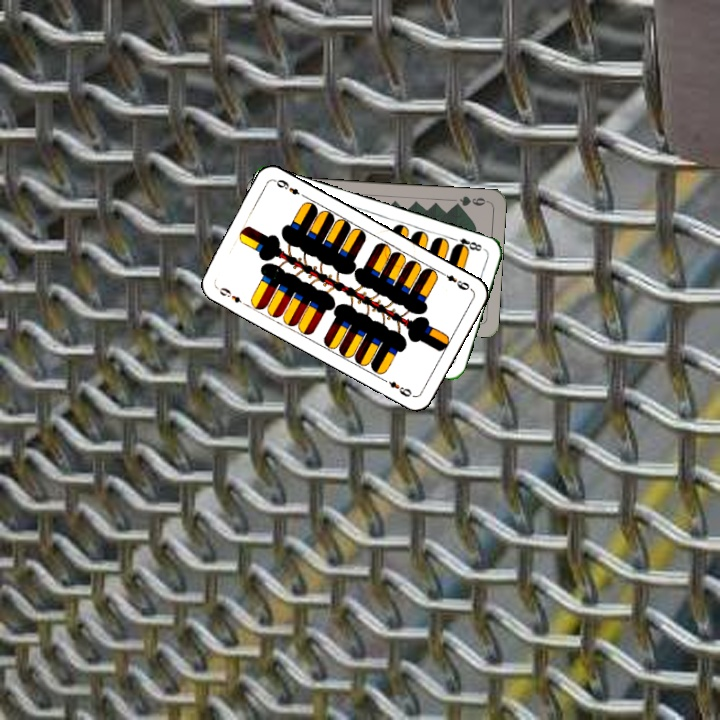E8: (448, 233, 484, 254)
E9: (213, 283, 250, 309), (436, 267, 472, 293)
G9: (449, 192, 490, 210)
